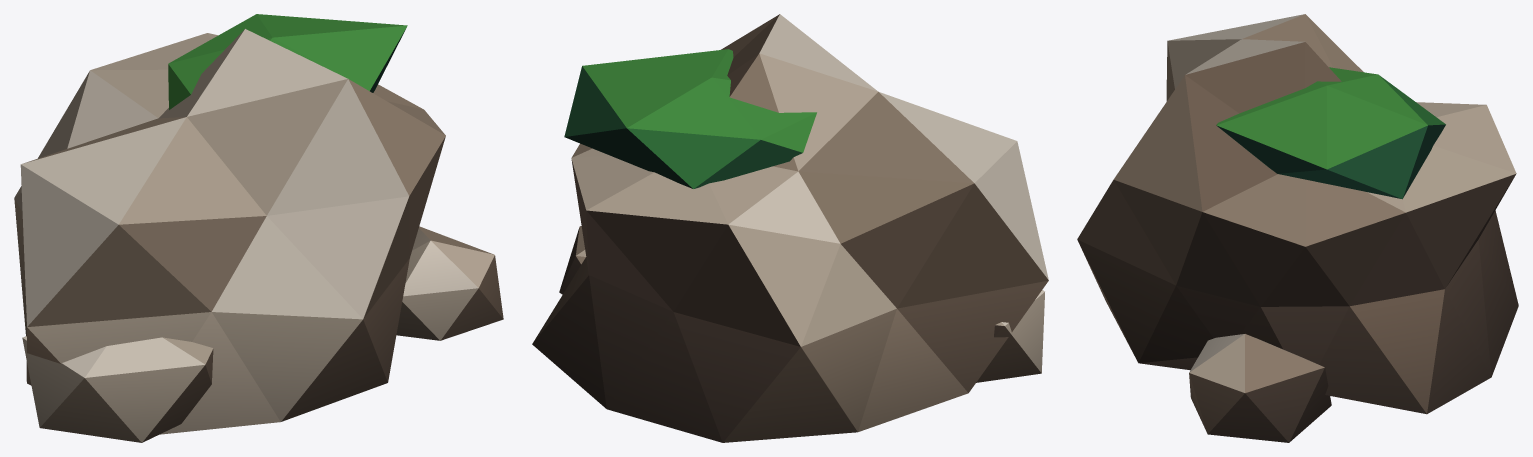
File: boulder_large.glb
3 renders of one model, left to right at view 1: azimuth 30°, elevation 25°; view 2: azimuth 150°, elevation 25°; view 3: azimuth 270°, elevation 25°, orthographic. The views are drawn at different scales.
Visible parts, largest first — view 1: boulder_large; view 2: boulder_large; view 3: boulder_large.
Part boxes in pixels (x1=…): boulder_large: x1=14, y1=14, x2=503, y2=442; boulder_large: x1=532, y1=14, x2=1048, y2=442; boulder_large: x1=1077, y1=14, x2=1518, y2=442.
Bounding box in the file's own units: 1.24 × 0.7863 × 1.02.
